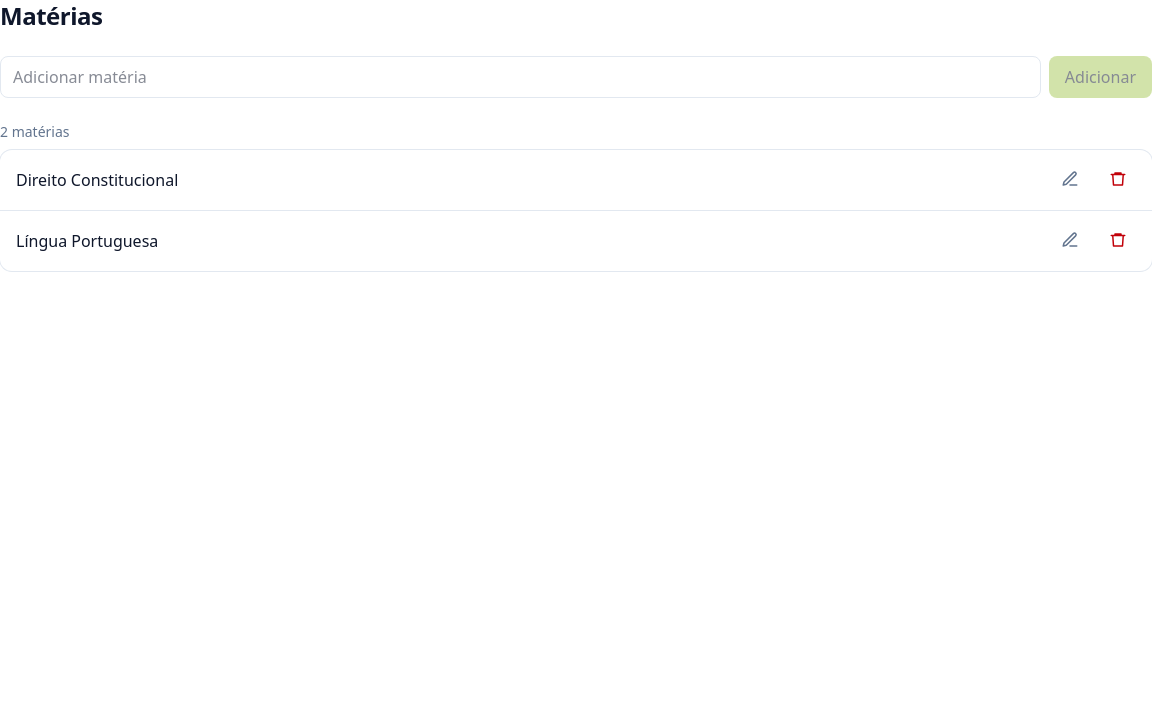
it: DimensaoPageComponent › não deixa a exclusão barrada por RESTRICT passar em silêncio
Click the button named "Excluir" in the row of "Direito Constitucional".
click(1118, 180)  # box [1100,162,1136,198]
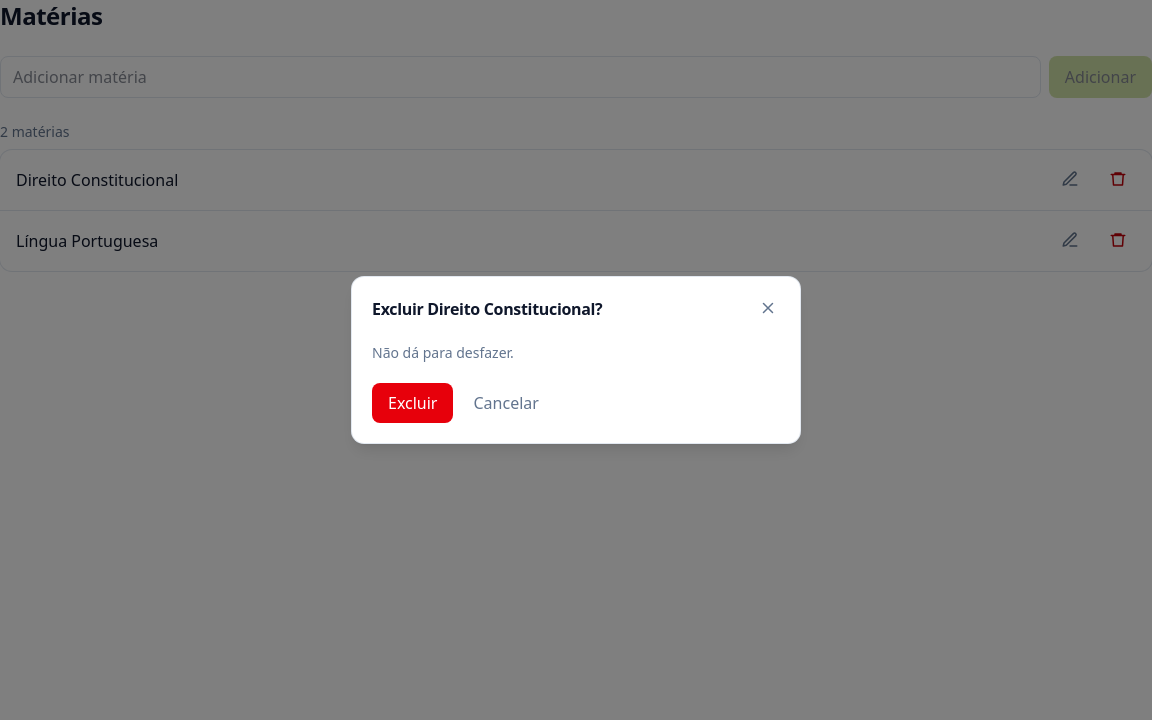
Click the button "Excluir".
click(413, 403)  # box [372,383,454,423]
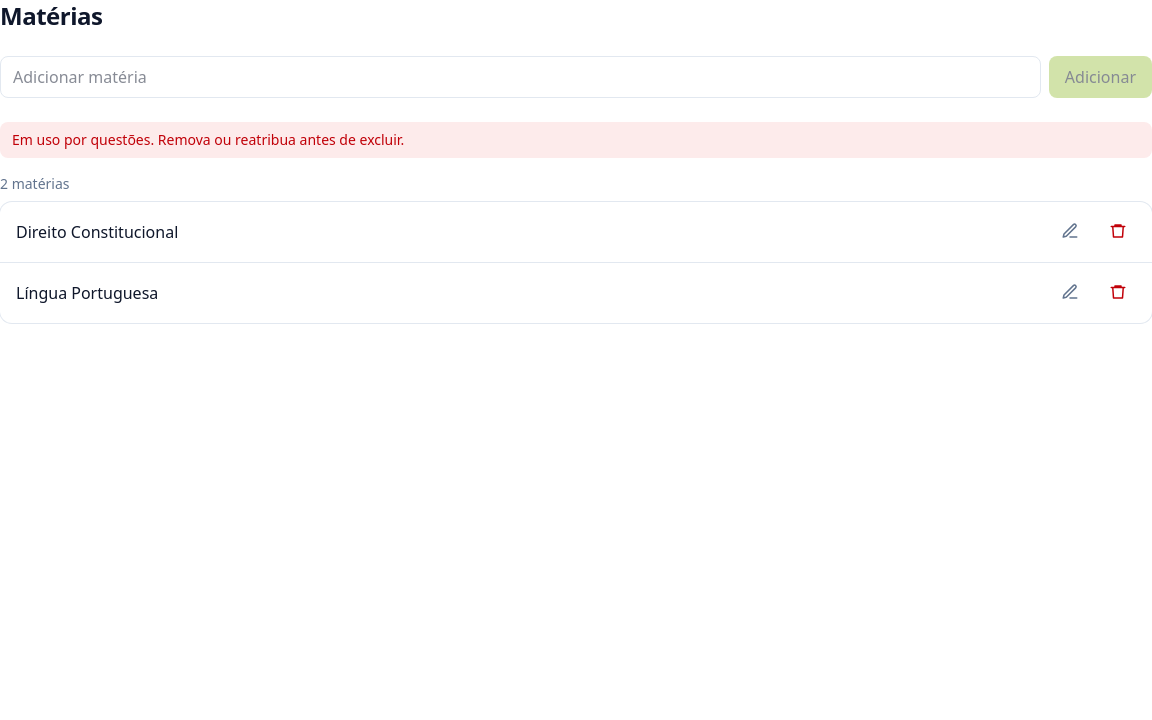
Expected: the text "Direito Constitucional" is shown, [16,221,178,243]
Expected: the text "Em uso por questões" is shown, [12,130,404,149]
